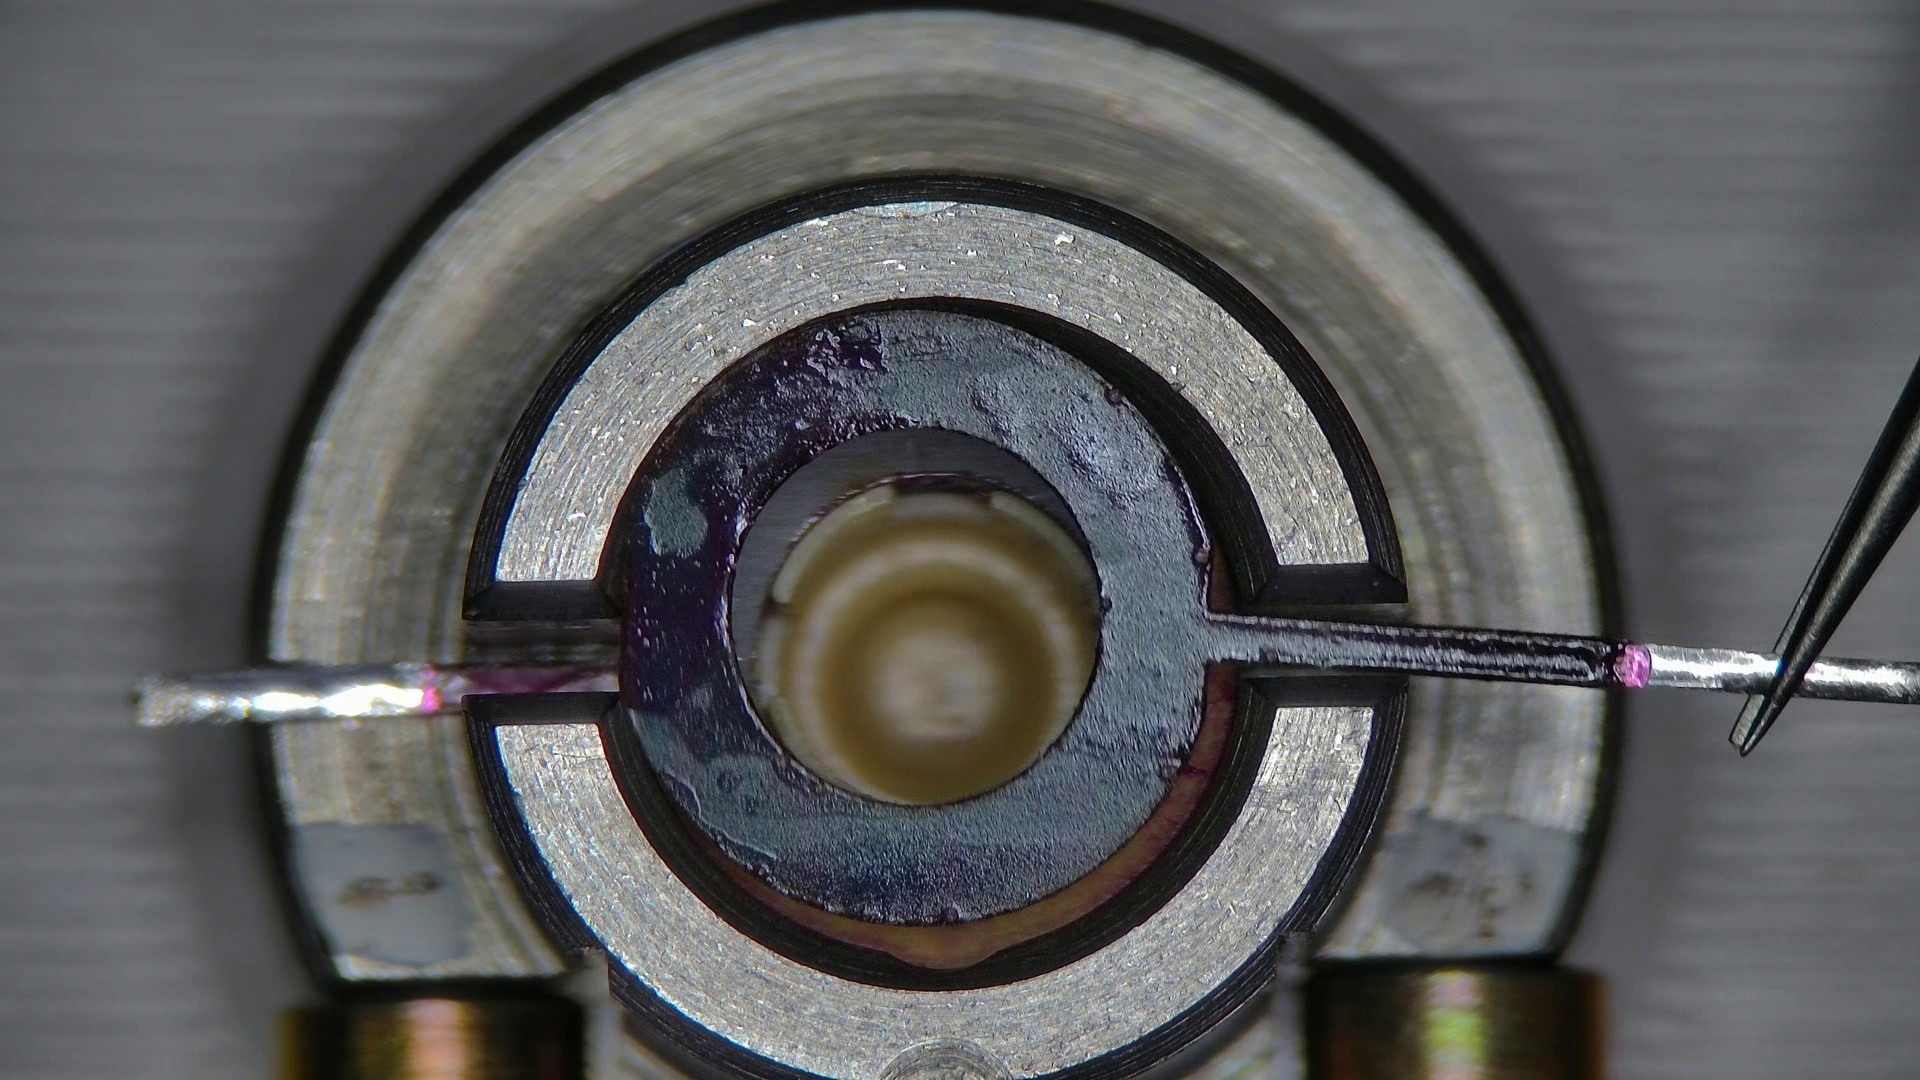GreyOring: (719, 669, 1233, 965)
YellowOring: (618, 305, 1208, 920), (729, 431, 1073, 658)
